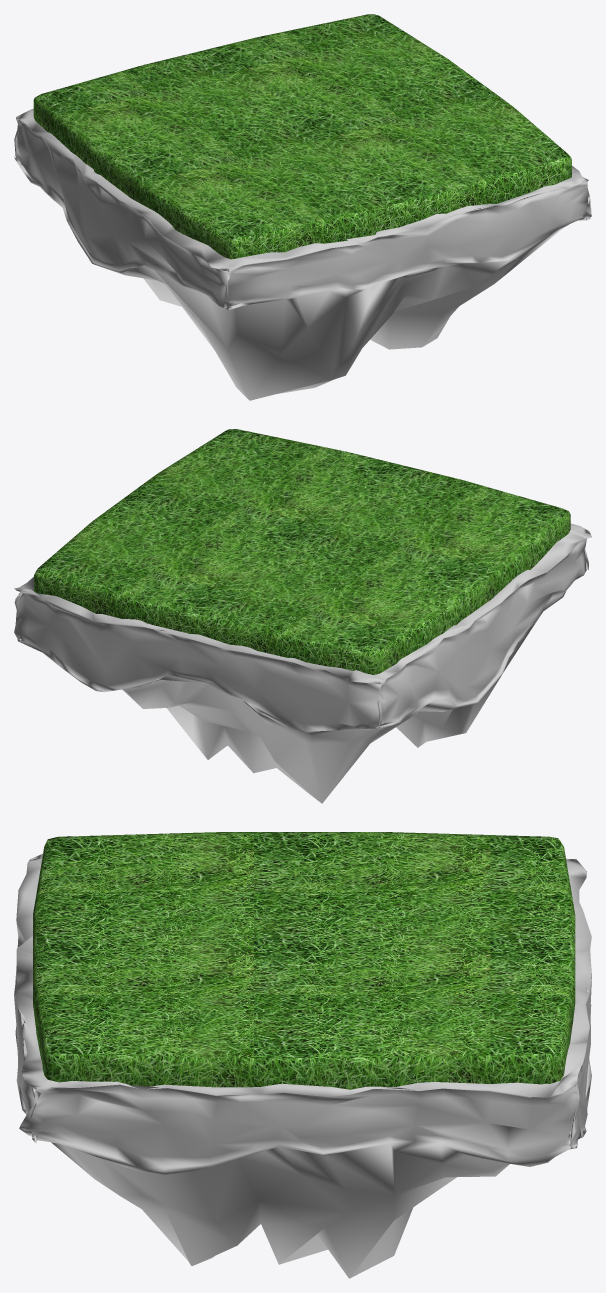
Rendered from Block1.FBX.
The picture shows the model from 3 angles, top to bottom: view 1: azimuth 30°, elevation 25°; view 2: azimuth 150°, elevation 25°; view 3: azimuth 270°, elevation 25°; orthographic projection. The views are drawn at different scales.
Parts seen in each view (by area): view 1: Box001, Box002; view 2: Box001, Box002; view 3: Box001, Box002.
Boxes of the visible parts, box(x1,y1,x2,y2) form: Box001: box(33, 14, 571, 259); Box002: box(14, 109, 591, 400); Box001: box(34, 429, 570, 674); Box002: box(14, 523, 591, 803); Box001: box(33, 832, 575, 1089); Box002: box(14, 853, 591, 1278).
Bounding box in the file's own units: 129 × 69.42 × 129.
